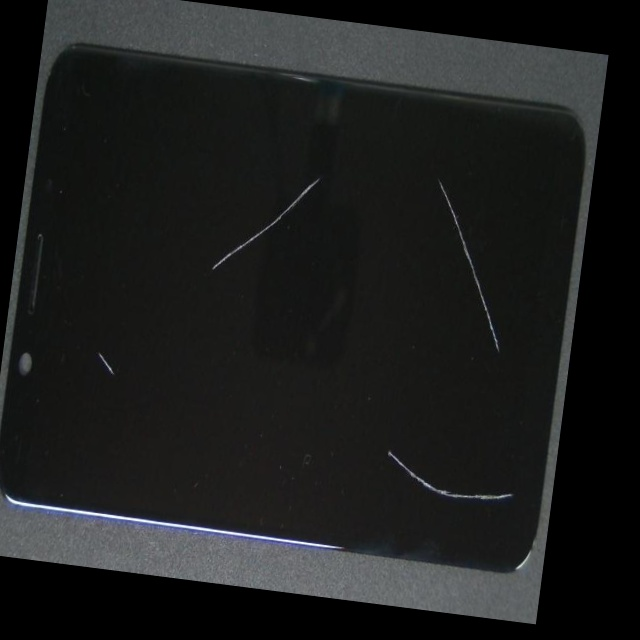scratch: (251, 202, 585, 485), (310, 271, 577, 624), (23, 186, 198, 575), (170, 101, 484, 269)
